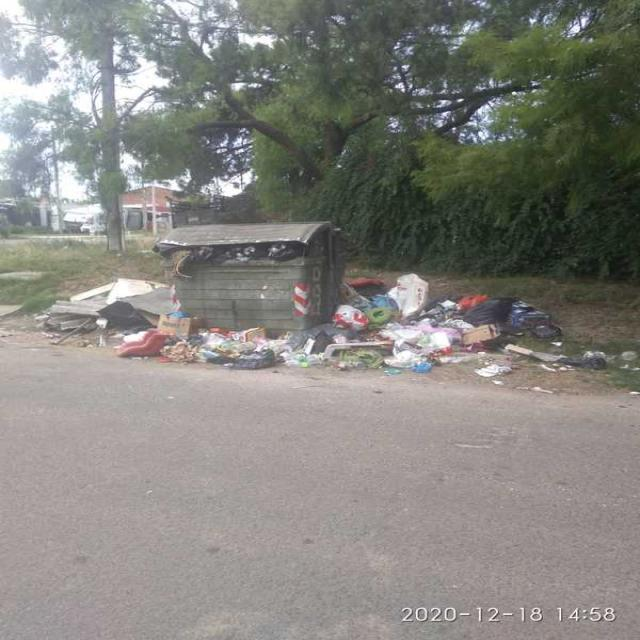garbage: (46, 284, 639, 378), (164, 238, 310, 280)
